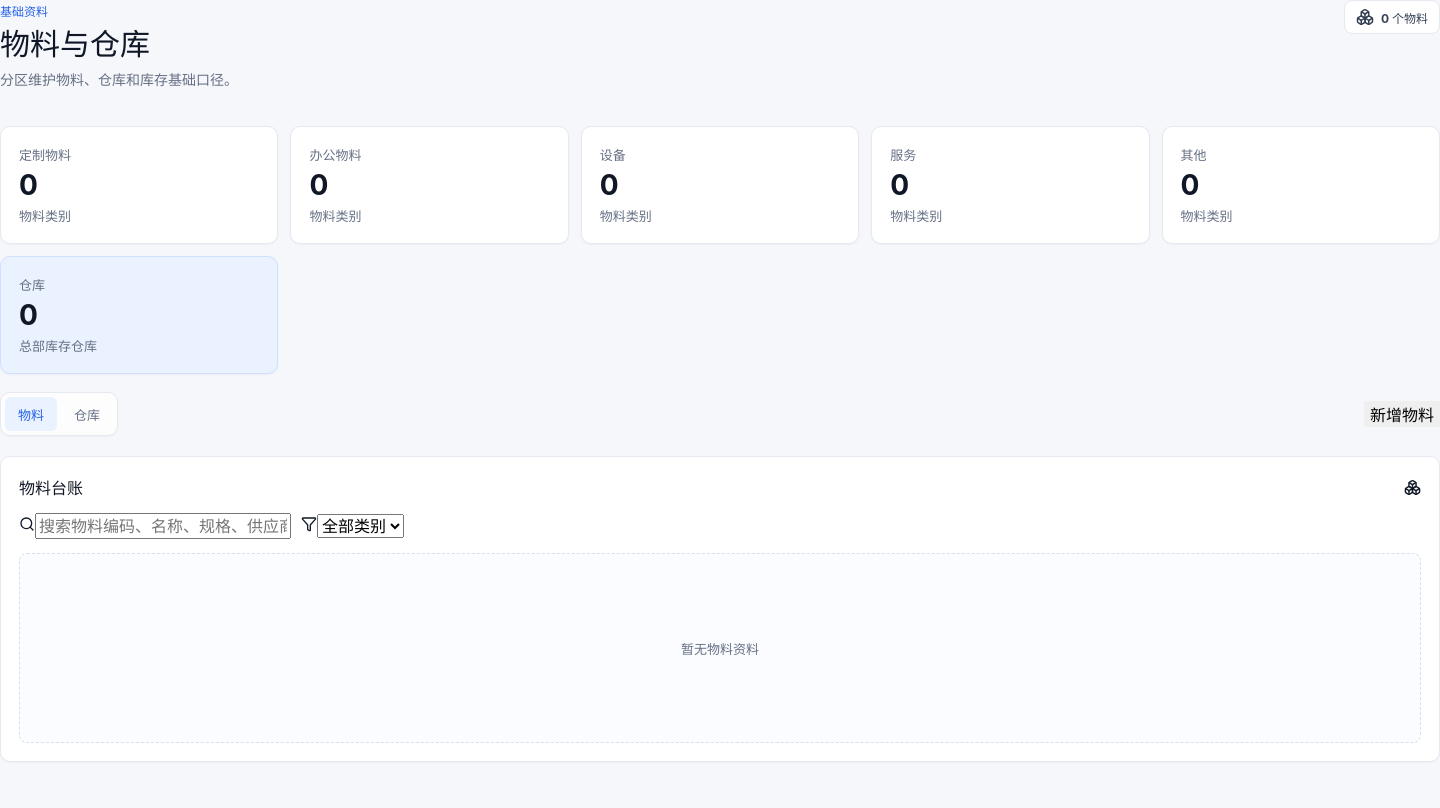
Test: 基础资料 行内校验 › 物料必填为空时显示行内错误且不调接口
This screenshot has width=1440, height=808.
Expected: the text "暂无物料资料" is shown, [681,639,759,658]
Click the button "新增物料".
click(1402, 414)  # box [1364,402,1439,428]
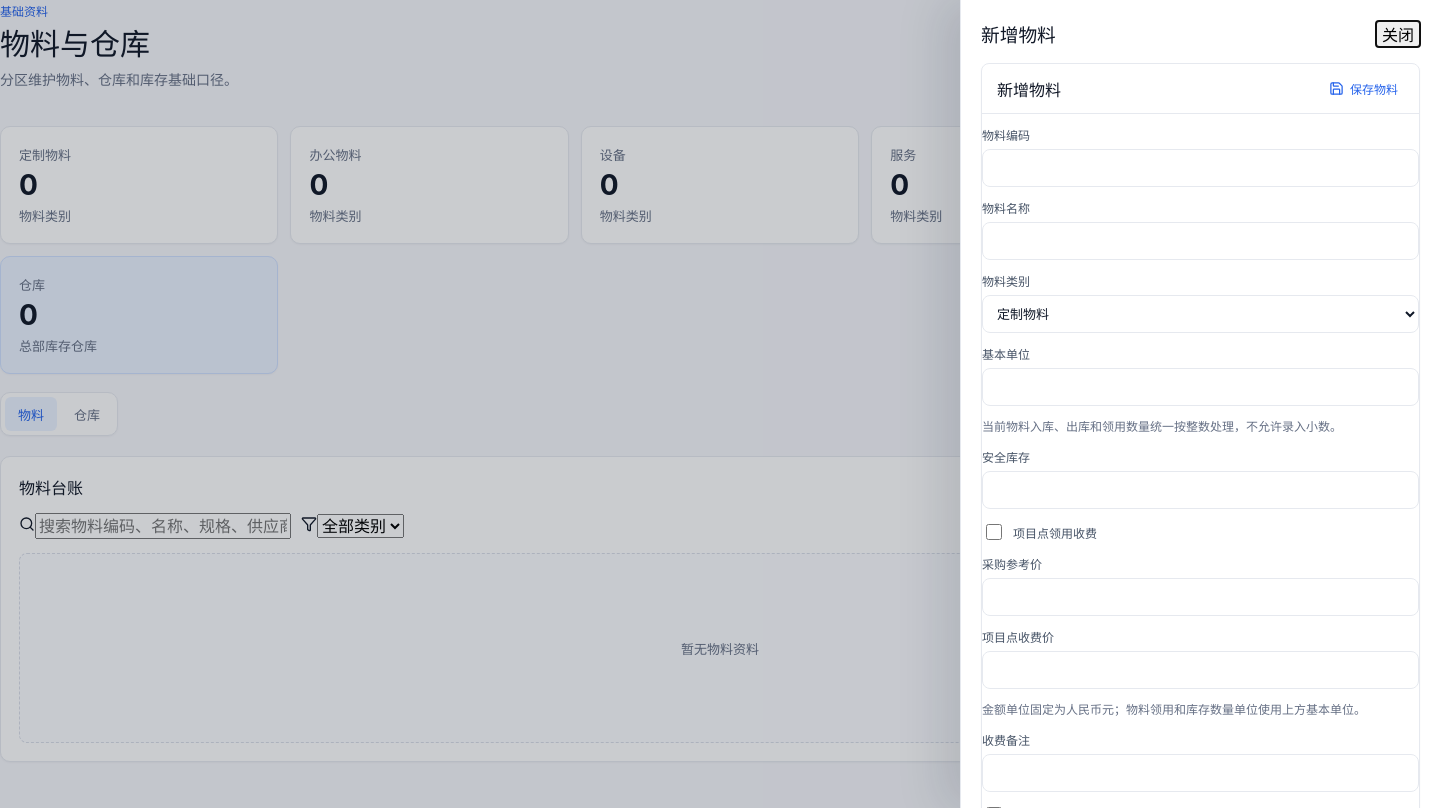
Click the button "保存物料".
click(1364, 88)  # box [1323,79,1404,98]
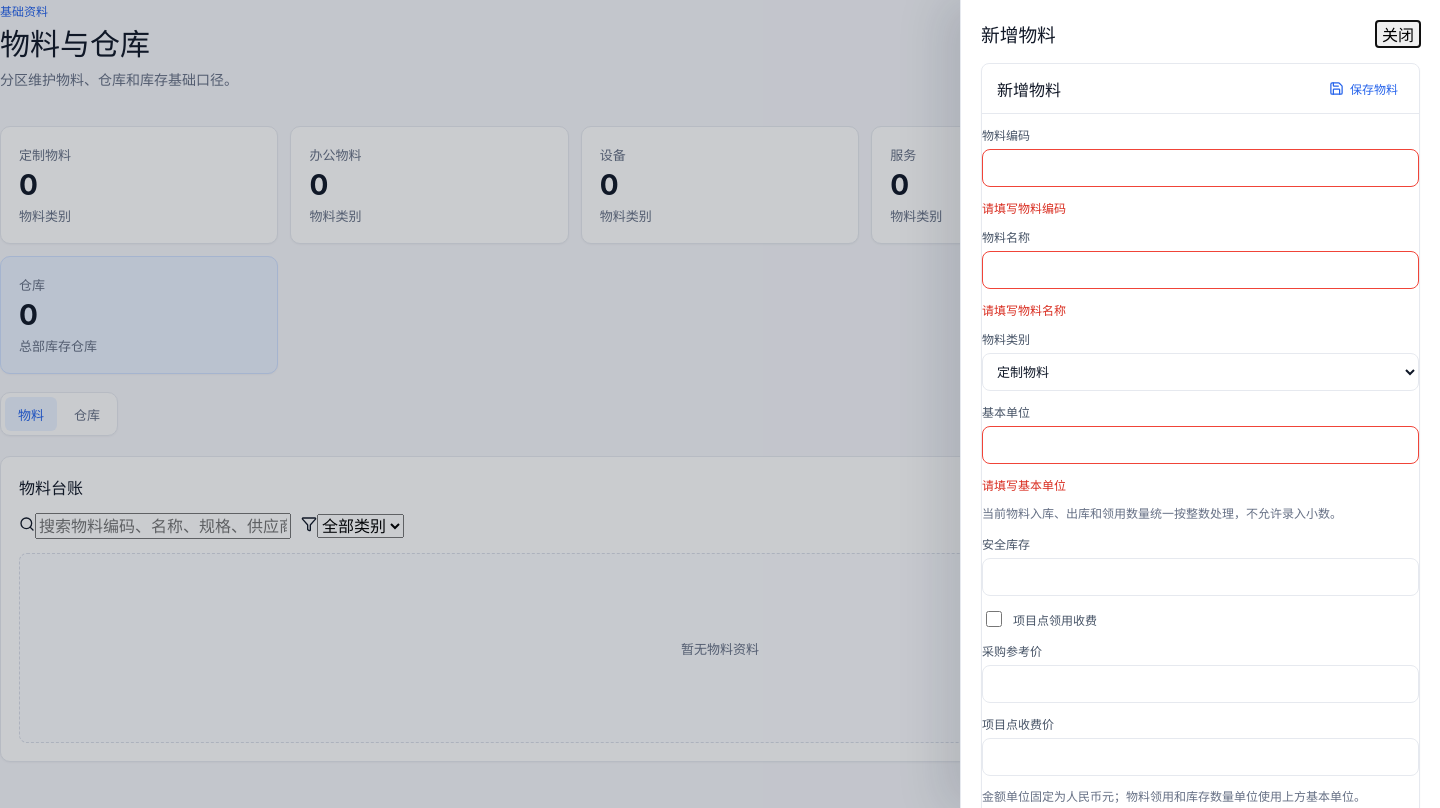
Expected: the text "请填写物料编码" is shown, [982,201,1066,216]
Expected: the text "请填写物料名称" is shown, [982,303,1066,318]
Expected: the text "请填写基本单位" is shown, [982,478,1066,493]
